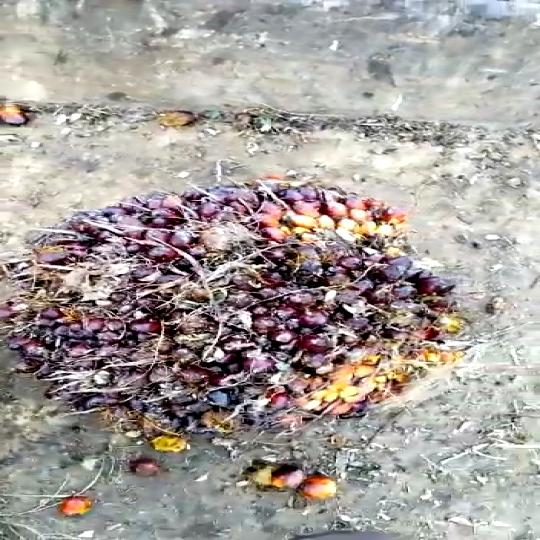mentah: (19, 168, 471, 447)
